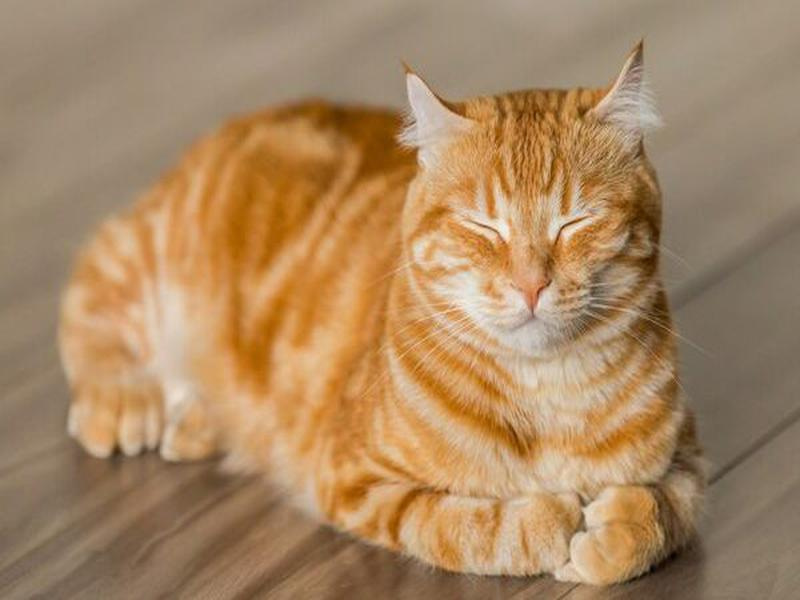cat: (52, 37, 739, 588)
